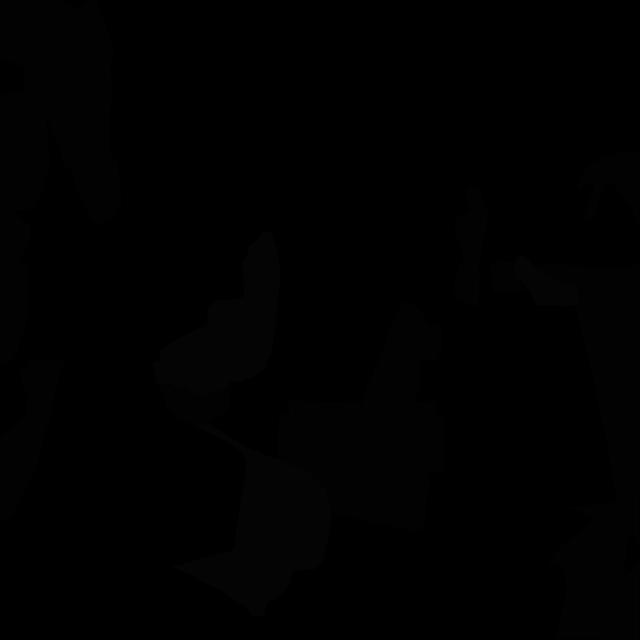cardboard: (24, 0, 122, 225), (277, 400, 445, 531), (329, 301, 442, 482), (533, 264, 640, 397), (548, 494, 640, 640), (0, 358, 68, 522), (567, 372, 640, 516), (0, 89, 50, 260), (577, 150, 640, 228), (453, 186, 488, 308), (156, 382, 230, 427), (0, 257, 28, 364), (0, 0, 37, 66), (490, 261, 529, 292)
soft_plastic: (171, 423, 331, 616), (152, 231, 281, 397), (514, 255, 578, 307)
